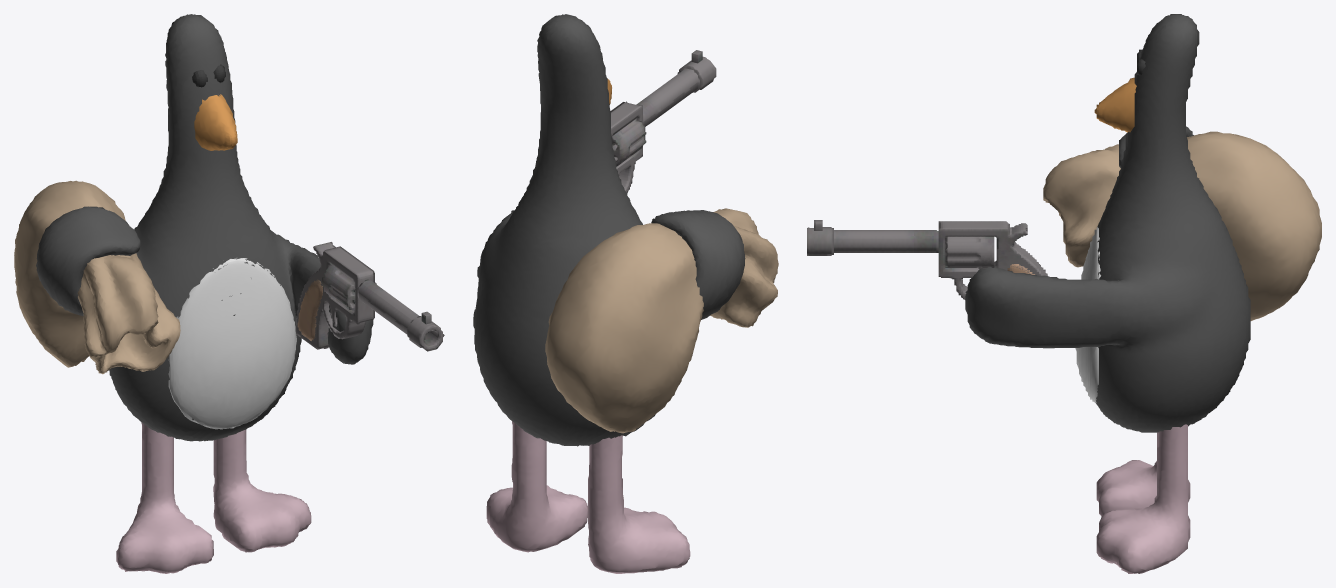
File: robber-duck-transformed.glb
The picture shows the model from 3 angles, left to right: view 1: azimuth 30°, elevation 25°; view 2: azimuth 150°, elevation 25°; view 3: azimuth 270°, elevation 25°; orthographic projection. The views are drawn at different scales.
Parts seen in each view (by area): view 1: Object_2; view 2: Object_2; view 3: Object_2.
Boxes of the visible parts, bbox=[...] form: Object_2: bbox=[14, 14, 444, 573]; Object_2: bbox=[473, 14, 778, 573]; Object_2: bbox=[807, 14, 1321, 573].
Size of the model in its own units: 3.08 by 6.04 by 5.48.
